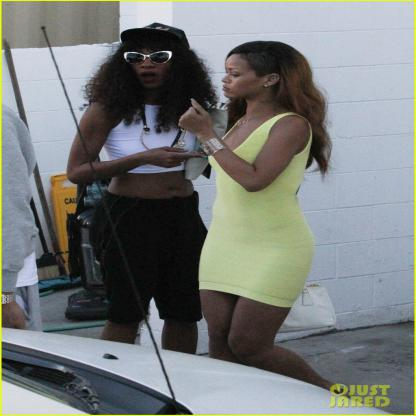face: (126, 49, 175, 87), (220, 61, 258, 98)
